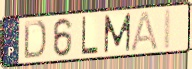6: (51, 17, 74, 59)
A: (129, 10, 160, 53)
D: (22, 19, 48, 61)
I: (162, 8, 173, 52)
L: (80, 15, 99, 56)
M: (103, 12, 132, 55)
